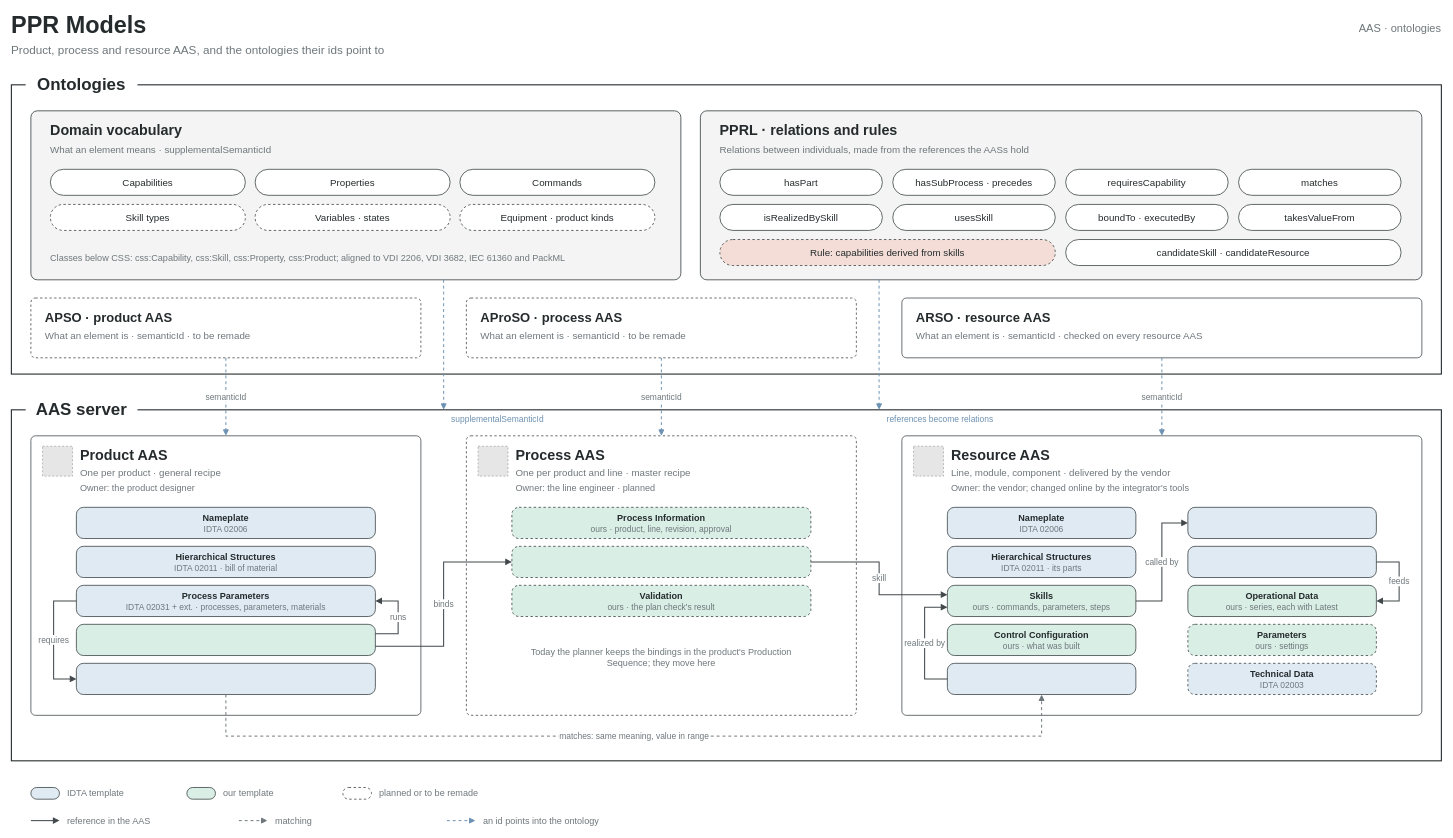
This 1453x838 diagram has some shape labels left out. Grey dashed boxes stand in for pictures. Here are the shapes that lost their labels. From the top down, the centre of each, then its label:
the point at 1282,523: Asset Interfaces Description IDTA 02017 · how to call it
the point at 661,562: Bindings ours · per step: resource, skill, parameters
the point at 1282,562: Mapping Configuration IDTA 02027 · interface to data
the point at 226,640: Production Sequence ours · the recipe: steps, order, conditions
the point at 226,679: Capability Description IDTA 02020 · required
the point at 1041,679: Capability Description IDTA 02020 · offered
